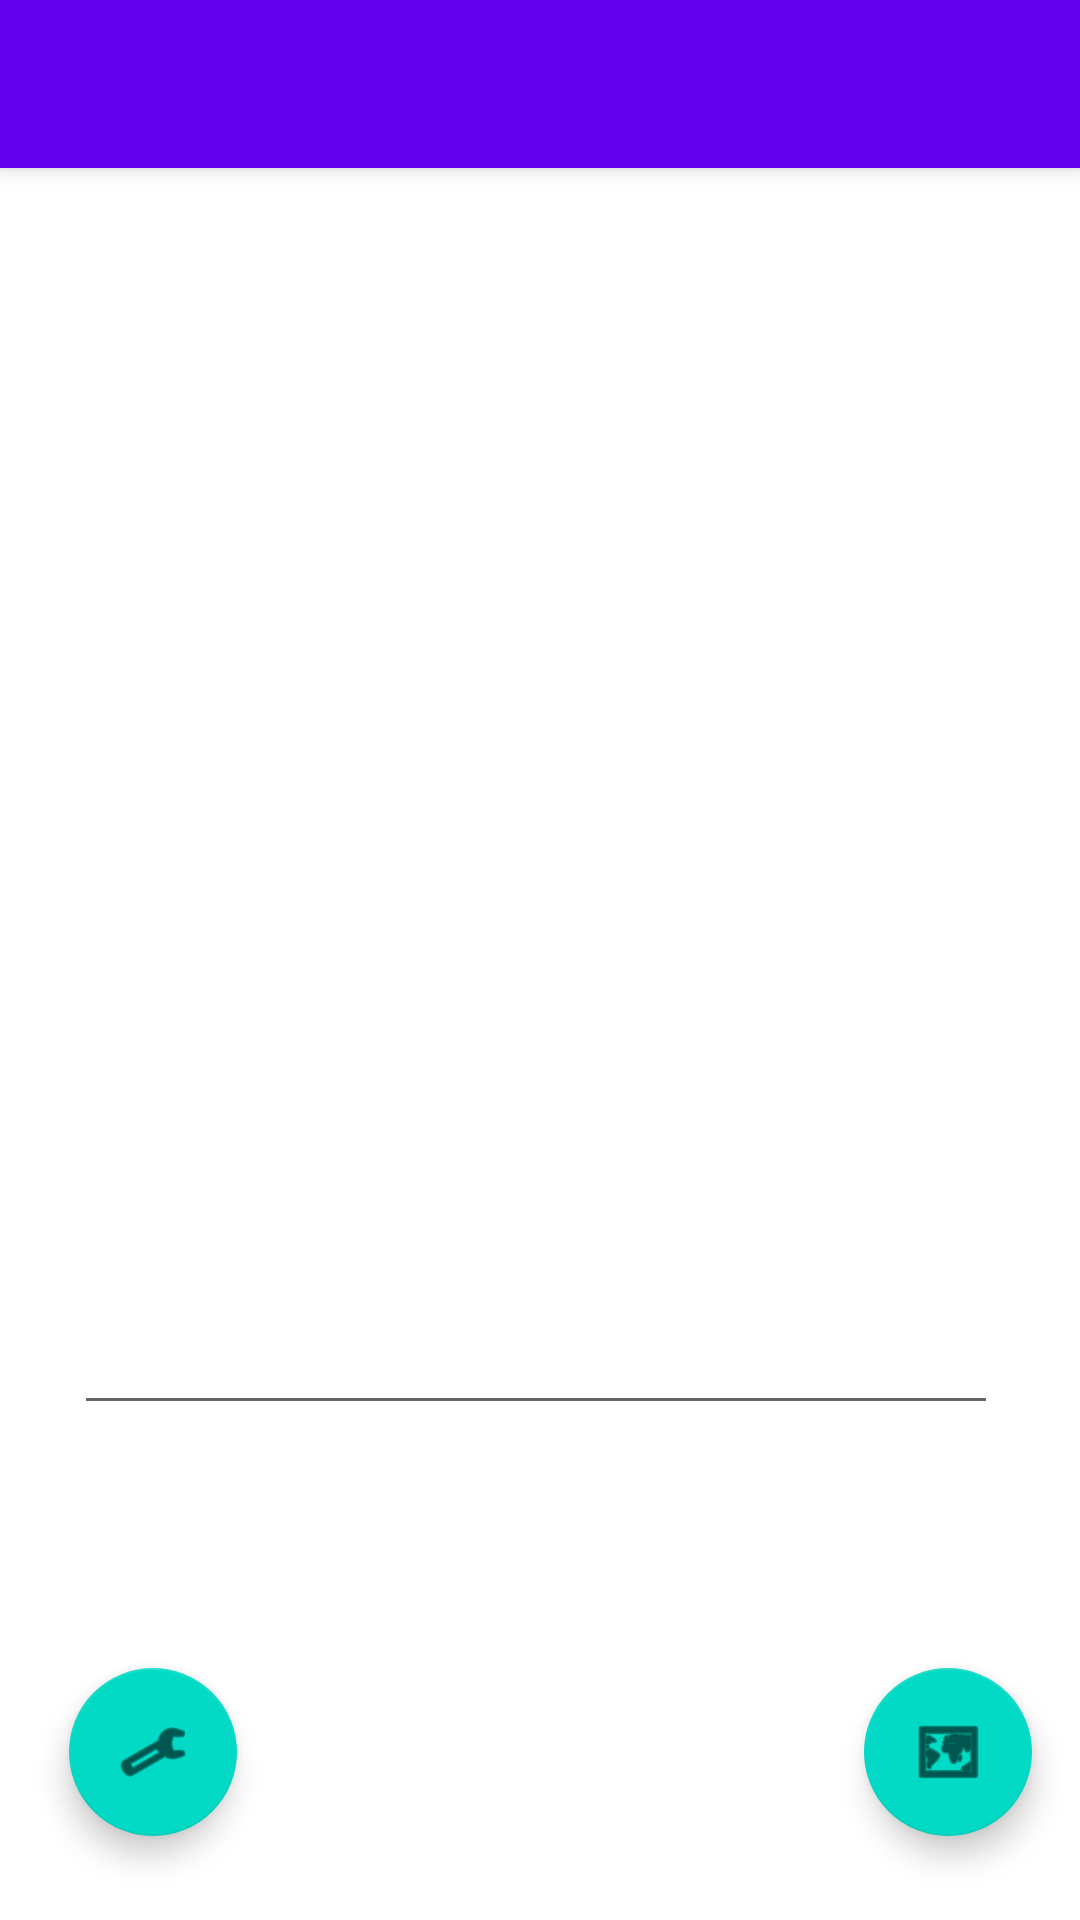

Icon click points for this 1080px x 1920px phone screenshot, format (x=x, y=y):
manage: (x=153, y=1752)
To Map: (x=948, y=1752)
